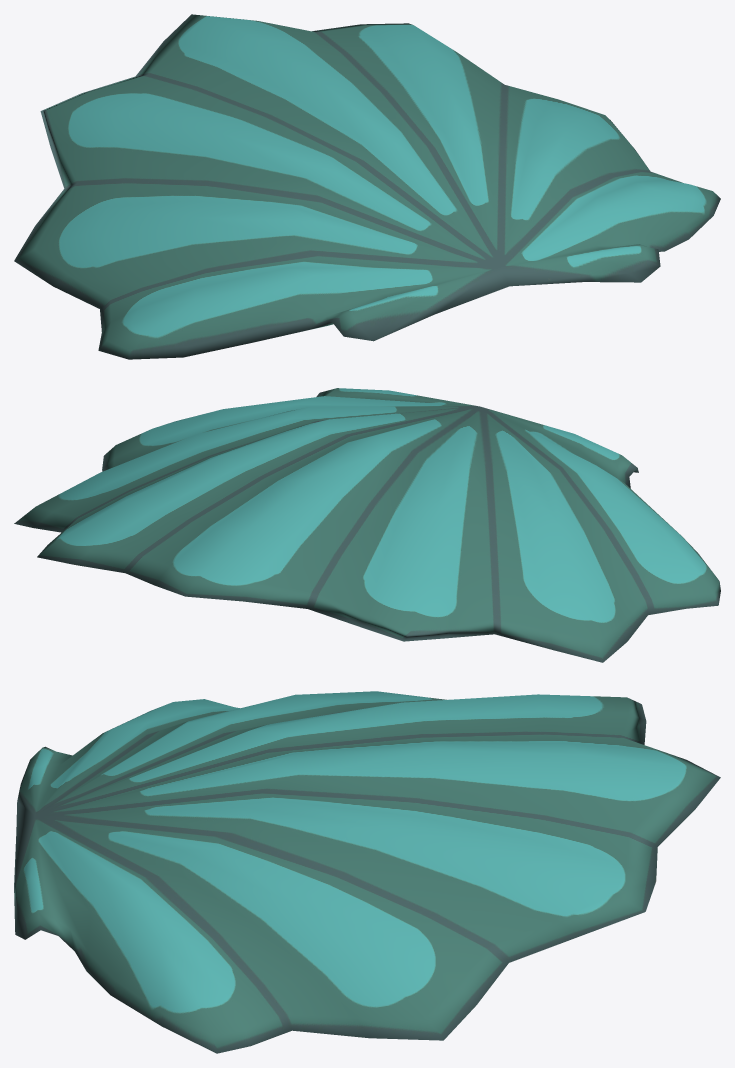
The model's file is Sea_Shell_3.fbx.
3 renders of one model, top to bottom at view 1: azimuth 30°, elevation 25°; view 2: azimuth 150°, elevation 25°; view 3: azimuth 270°, elevation 25°, orthographic. The views are drawn at different scales.
Visible parts, largest first — view 1: SeaShell; view 2: SeaShell; view 3: SeaShell.
Boxes of the visible parts, bbox=[...] form: SeaShell: bbox=[14, 14, 720, 359]; SeaShell: bbox=[14, 388, 720, 662]; SeaShell: bbox=[14, 691, 720, 1053].
Size of the model in its own units: 34.43 by 6.52 by 30.02.
1 material, 1 textured.
